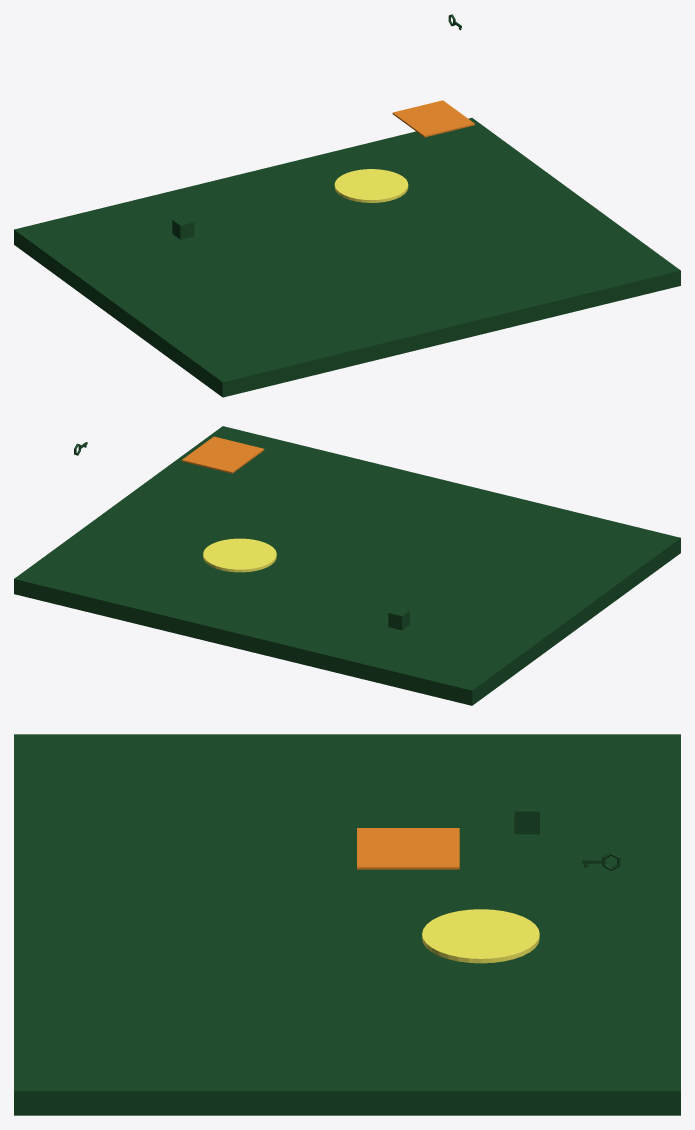
The model's file is frodomap.gltf.
3 views of the same model, one above another, from view 1: azimuth 30°, elevation 25°; view 2: azimuth 150°, elevation 25°; view 3: azimuth 270°, elevation 25° (orthographic). The views are drawn at different scales.
Visible parts, largest first — view 1: Floor, Trampoline, MovingPlatform; view 2: Floor, Trampoline, MovingPlatform, Cube.017; view 3: Floor, Trampoline, MovingPlatform, Cube.017.
Boxes of the visible parts, x1,y1,x2,y2 form: Floor: [14, 118, 680, 397]; Trampoline: [334, 169, 408, 202]; MovingPlatform: [392, 100, 474, 137]; Floor: [14, 426, 680, 705]; Trampoline: [203, 538, 276, 572]; MovingPlatform: [182, 436, 264, 473]; Cube.017: [388, 607, 409, 630]; Floor: [14, 734, 680, 1115]; Trampoline: [422, 909, 539, 963]; MovingPlatform: [357, 828, 459, 869]; Cube.017: [514, 800, 539, 834].
Bounding box in the file's own units: 13.57 × 6.76 × 10.71.
Materials: 6 (6 with a texture image).
